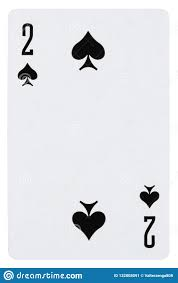two of spades: (9, 8, 171, 261)
